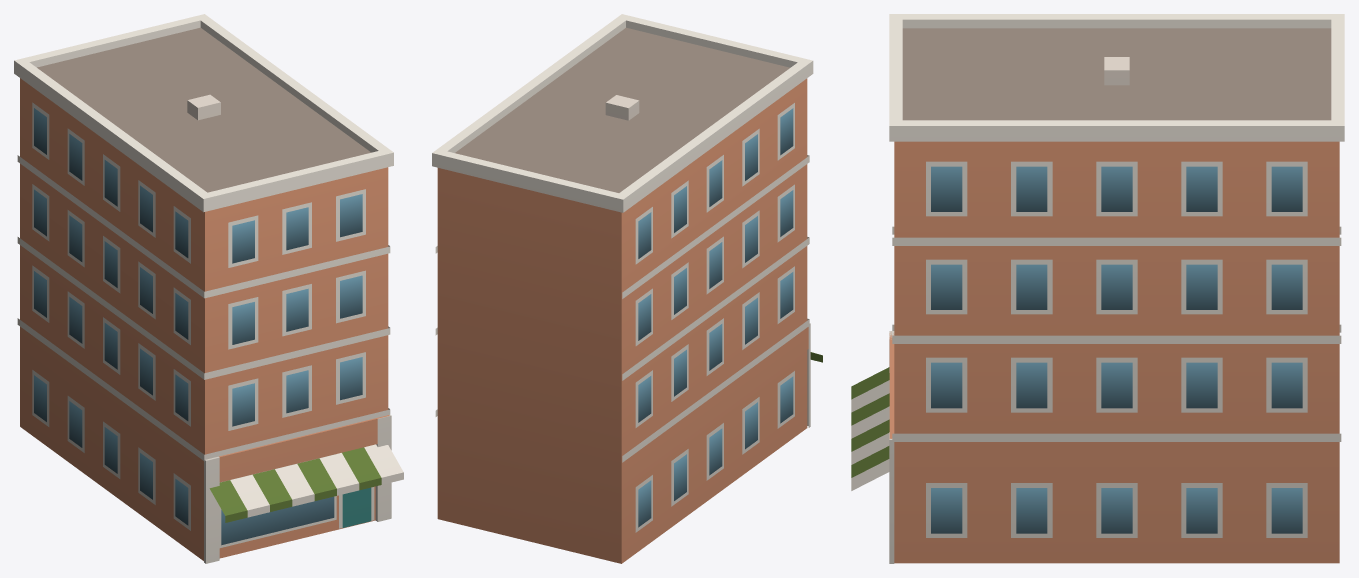
File: boylston_s6_far.glb
3 views of the same model, side by side, from view 1: azimuth 30°, elevation 25°; view 2: azimuth 150°, elevation 25°; view 3: azimuth 270°, elevation 25° (orthographic). The views are drawn at different scales.
Parts seen in each view (by area): view 1: boylston_s6_far; view 2: boylston_s6_far; view 3: boylston_s6_far.
Boxes of the visible parts, left/top/right/bottom form: boylston_s6_far: left=14, top=14, right=403, bottom=563; boylston_s6_far: left=432, top=14, right=822, bottom=563; boylston_s6_far: left=851, top=14, right=1344, bottom=563.
Size of the model in its own units: 8.32 by 15.47 by 15.51.
1 material, 1 textured.
